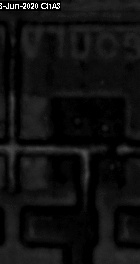led: (49, 98, 126, 186)
